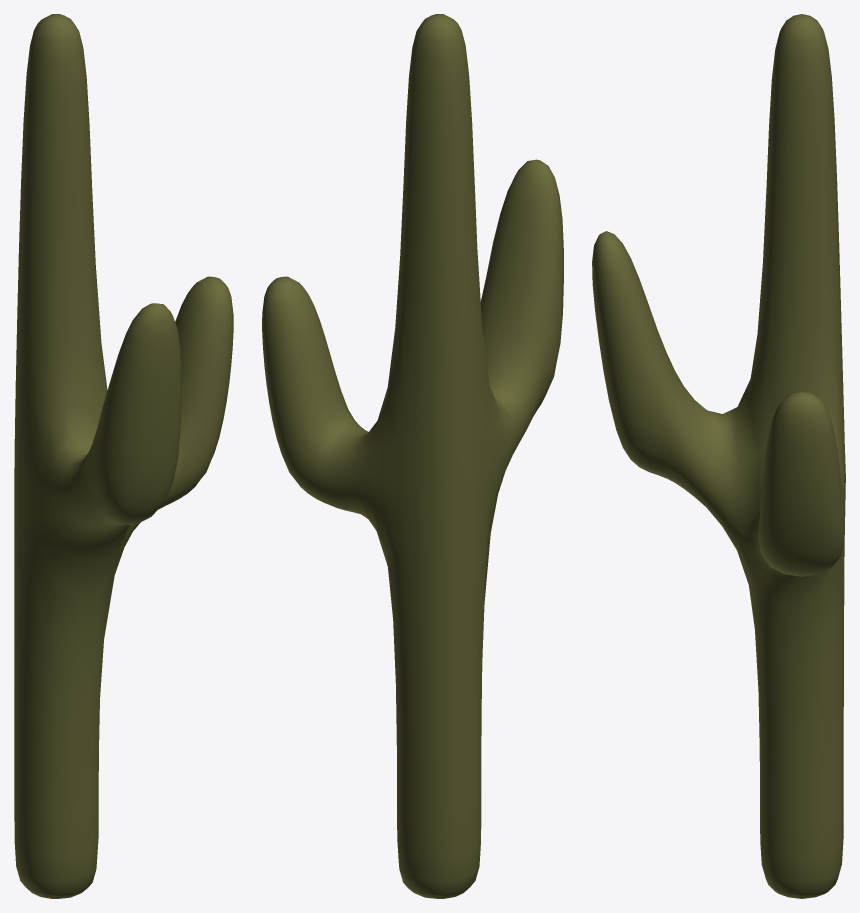
Rendered from cactus_1.glb.
The picture shows the model from 3 angles, left to right: view 1: azimuth 30°, elevation 25°; view 2: azimuth 150°, elevation 25°; view 3: azimuth 270°, elevation 25°; orthographic projection.
Parts seen in each view (by area): view 1: Cube; view 2: Cube; view 3: Cube.
Part boxes in pixels (x1,y1,x2,y2): Cube: (14,14,233,898); Cube: (262,14,563,898); Cube: (592,14,845,898).
Size of the model in its own units: 2.43 by 9.72 by 2.55.
